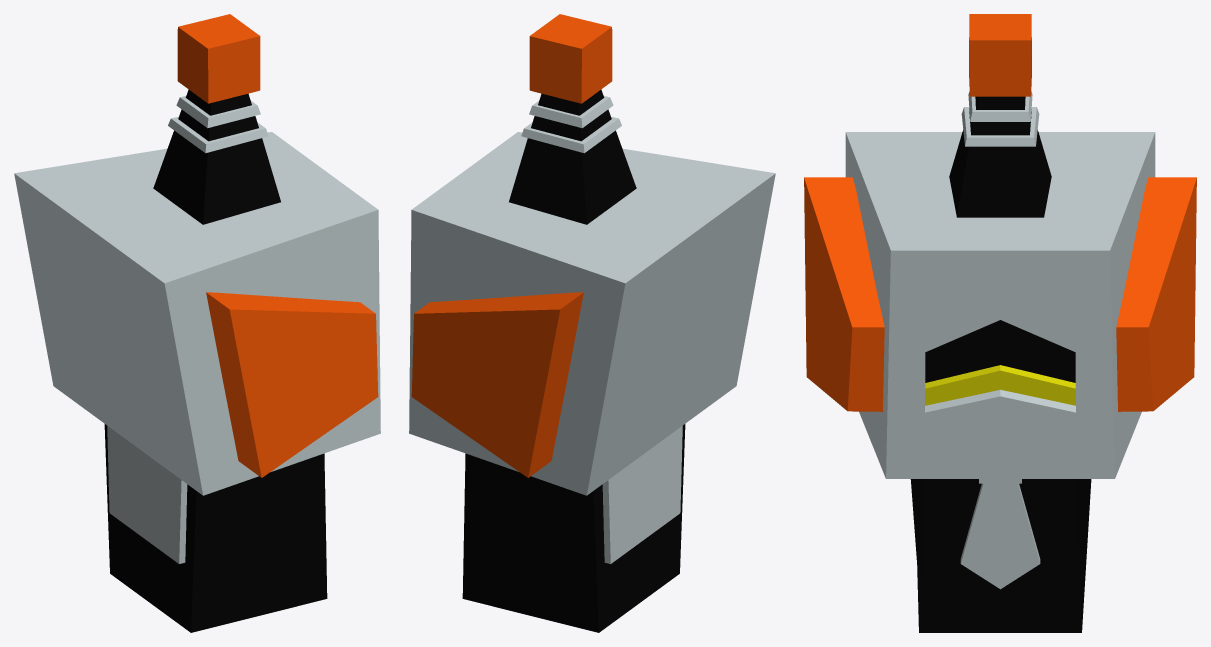
File: Robot_Education.fbx
The picture shows the model from 3 angles, left to right: view 1: azimuth 30°, elevation 25°; view 2: azimuth 150°, elevation 25°; view 3: azimuth 270°, elevation 25°; orthographic projection. The views are drawn at different scales.
Parts seen in each view (by area): view 1: Cube; view 2: Cube; view 3: Cube.
Boxes of the visible parts, x1,y1,x2,y2 form: Cube: [14, 14, 380, 632]; Cube: [409, 14, 775, 632]; Cube: [804, 14, 1196, 632].
Bounding box in the file's own units: 222 × 500 × 312.
